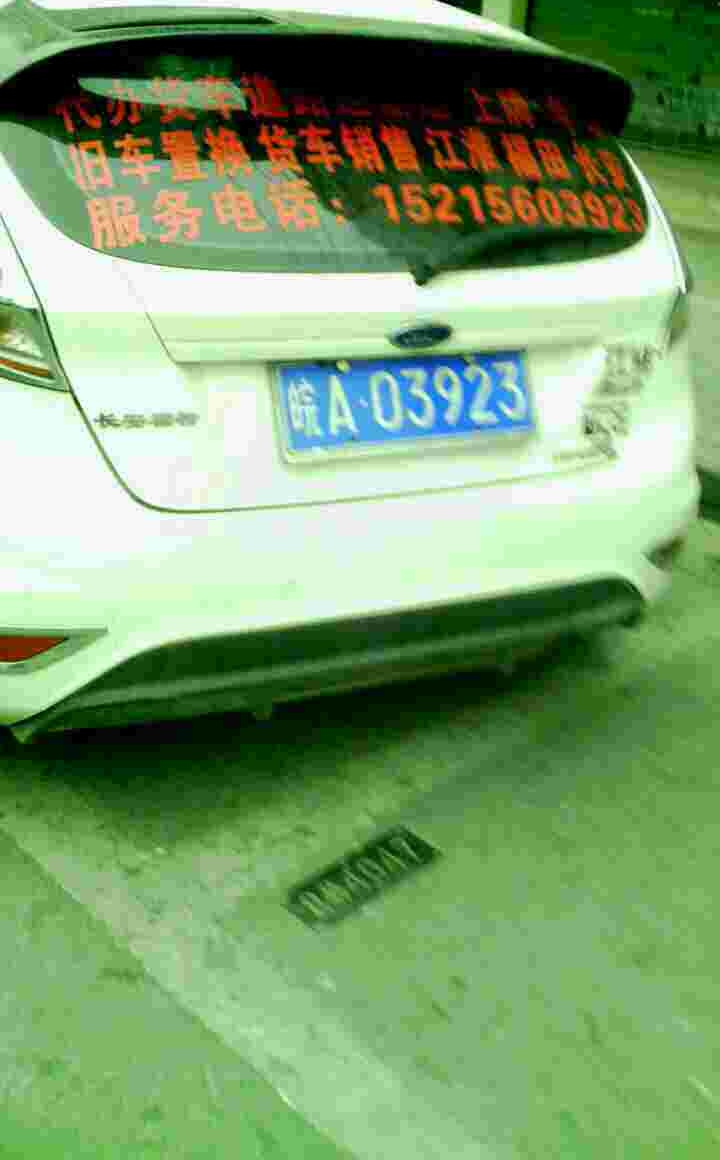license_plate: (289, 349, 519, 451)
